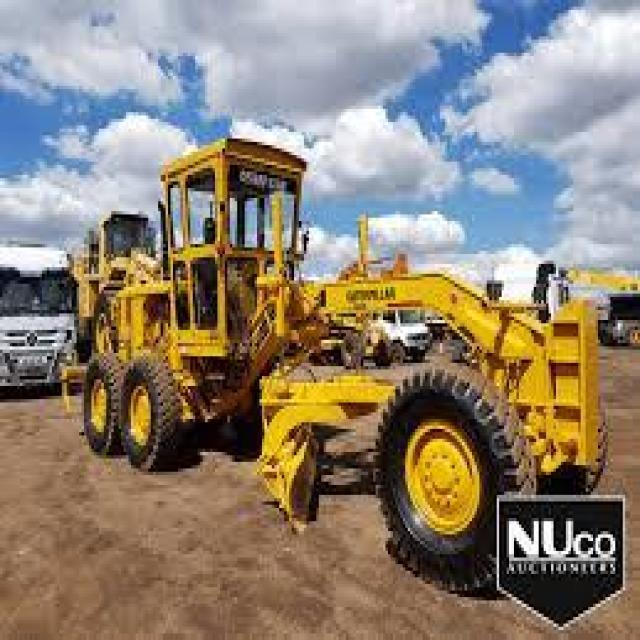buldozerpayloadergrader: (57, 132, 615, 597)
